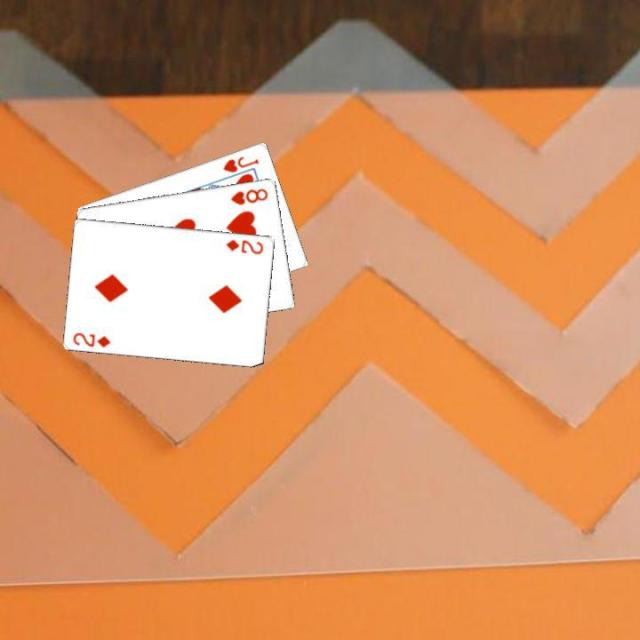2D: (222, 236, 266, 256), (69, 328, 112, 348)
8H: (227, 184, 270, 206)
JH: (218, 152, 260, 174)
